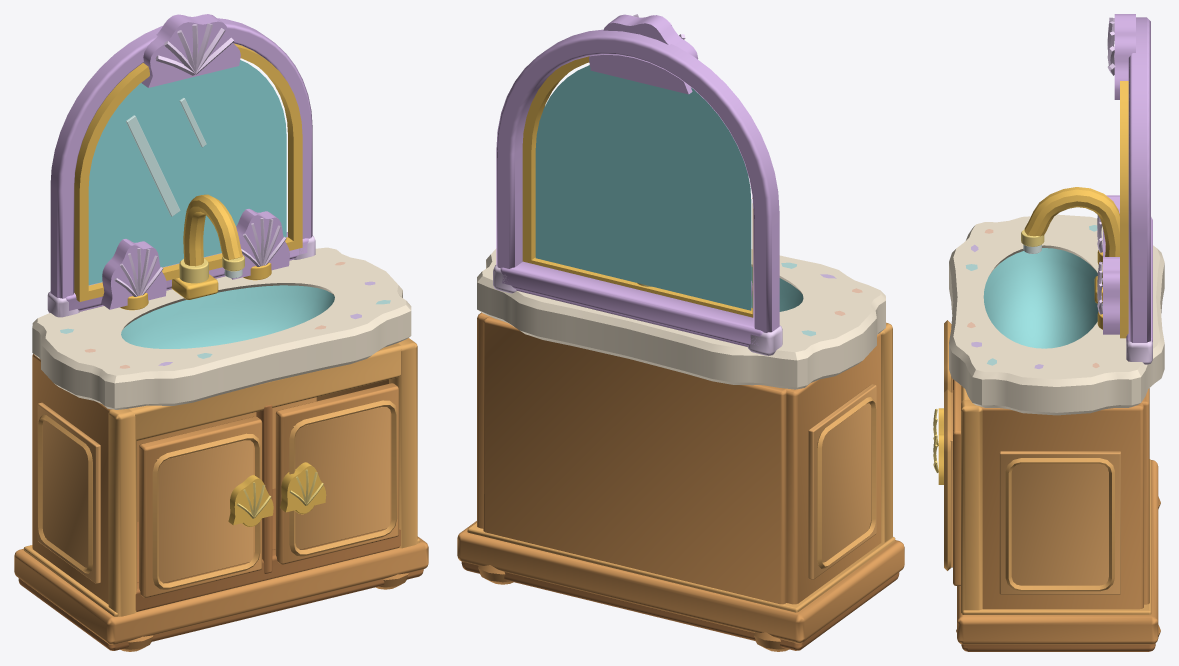
Rendered from bathroom_sink.glb.
3 renders of one model, left to right at view 1: azimuth 30°, elevation 25°; view 2: azimuth 150°, elevation 25°; view 3: azimuth 270°, elevation 25°, orthographic. The views are drawn at different scales.
Parts seen in each view (by area): view 1: VanityBody_WoodHoney, VanityBody_InsetPanels, VanityTop_CreamTerrazzo, VanityMirror_AquaGlass, VanityBody_WoodAmber, VanityMirror_LavenderFrame, VanityBasin_AquaCeramic, VanityMirror_GoldTrim, VanityBody_WoodShadow, VanityMetal_WarmGold, VanityMetal_LavenderHandles, VanityMirror_FrameHighlights (+3 smaller); view 2: VanityBody_WoodHoney, VanityMirror_AquaGlass, VanityMirror_LavenderFrame, VanityTop_CreamTerrazzo, VanityBody_InsetPanels, VanityBody_WoodAmber, VanityMirror_GoldTrim, VanityBody_WoodShadow, VanityMirror_FrameHighlights, VanityBasin_AquaCeramic; view 3: VanityBody_WoodHoney, VanityTop_CreamTerrazzo, VanityBody_InsetPanels, VanityBody_WoodAmber, VanityBasin_AquaCeramic, VanityMirror_LavenderFrame, VanityMetal_WarmGold, VanityMirror_GoldTrim, VanityMetal_LavenderHandles, VanityBody_WoodShadow, VanityMirror_FrameHighlights, VanityMetal_GoldHighlights (+1 smaller).
Boxes of the visible parts, x1,y1,x2,y2 form: VanityBody_WoodHoney: [14, 354, 428, 651]; VanityBody_InsetPanels: [37, 402, 390, 583]; VanityTop_CreamTerrazzo: [32, 247, 411, 409]; VanityMirror_AquaGlass: [88, 60, 286, 285]; VanityBody_WoodAmber: [23, 338, 419, 616]; VanityMirror_LavenderFrame: [50, 14, 312, 311]; VanityBasin_AquaCeramic: [121, 285, 334, 348]; VanityMirror_GoldTrim: [74, 43, 302, 301]; VanityBody_WoodShadow: [18, 405, 423, 650]; VanityMetal_WarmGold: [120, 194, 326, 526]; VanityMetal_LavenderHandles: [101, 209, 289, 309]; VanityMirror_FrameHighlights: [47, 23, 315, 317]; VanityBody_WoodHoney: [457, 312, 904, 651]; VanityMirror_AquaGlass: [535, 65, 751, 310]; VanityMirror_LavenderFrame: [496, 14, 779, 346]; VanityTop_CreamTerrazzo: [477, 248, 885, 389]; VanityBody_InsetPanels: [808, 384, 876, 579]; VanityBody_WoodAmber: [467, 322, 895, 612]; VanityMirror_GoldTrim: [522, 56, 753, 317]; VanityBody_WoodShadow: [461, 562, 899, 650]; VanityMirror_FrameHighlights: [493, 14, 782, 355]; VanityBasin_AquaCeramic: [751, 266, 803, 311]; VanityBody_WoodHoney: [953, 379, 1160, 644]; VanityTop_CreamTerrazzo: [949, 214, 1164, 415]; VanityBody_InsetPanels: [950, 324, 1120, 594]; VanityBody_WoodAmber: [944, 320, 1151, 614]; VanityBasin_AquaCeramic: [983, 248, 1102, 348]; VanityMirror_LavenderFrame: [1114, 14, 1152, 342]; VanityMetal_WarmGold: [938, 187, 1119, 484]; VanityMirror_GoldTrim: [1120, 81, 1128, 338]; VanityMetal_LavenderHandles: [1103, 195, 1119, 334]; VanityBody_WoodShadow: [961, 643, 1155, 651]; VanityMirror_FrameHighlights: [1107, 17, 1152, 364]; VanityMetal_GoldHighlights: [933, 229, 1102, 472].
Bounding box in the file's own units: 4.48 × 7 × 2.6.
